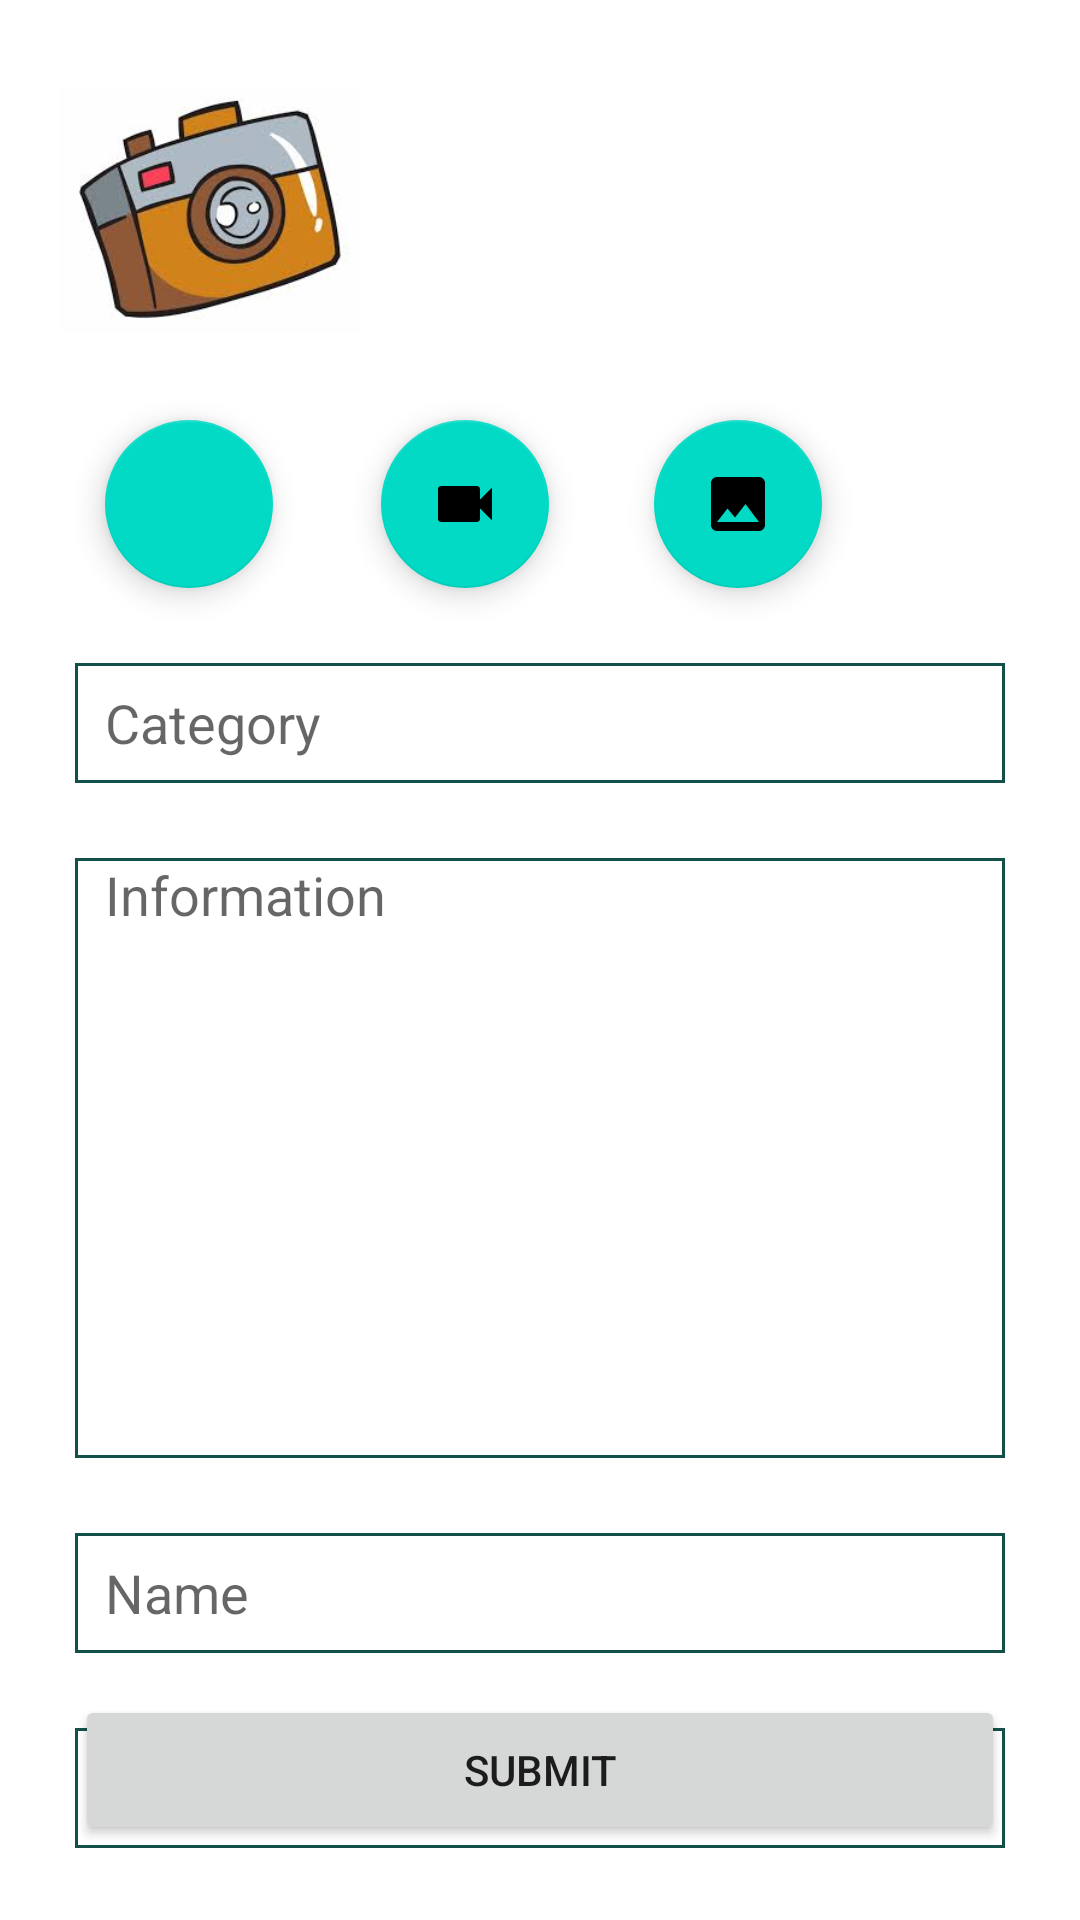

Icons on this 1080px x 1920px Android screen, each with the point to tap as point (x, y):
camerimage: point (210, 209)
gallery: point (738, 504)
video: point (465, 504)
